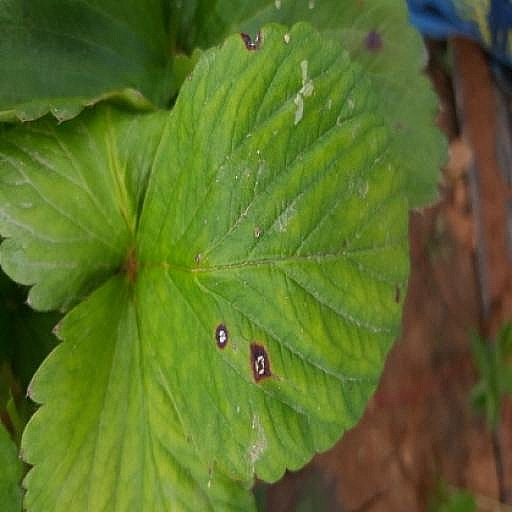Leaf Spot: (133, 22, 412, 491), (167, 300, 450, 511)
